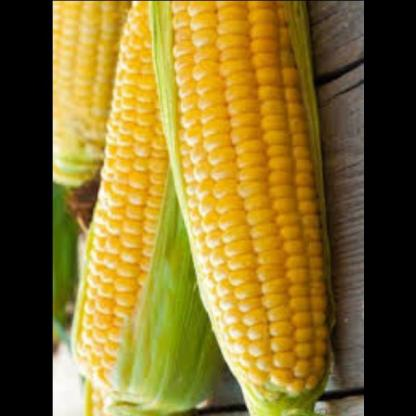corn: (150, 0, 323, 416), (52, 0, 209, 411), (52, 1, 128, 192)
